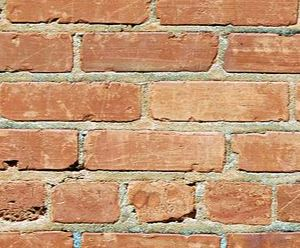brick: (85, 127, 226, 174), (1, 81, 144, 124), (149, 80, 292, 123), (80, 30, 220, 73), (1, 127, 80, 174), (223, 30, 300, 75), (4, 1, 152, 24), (203, 178, 273, 226), (50, 177, 121, 224), (154, 1, 298, 24), (1, 31, 75, 74), (126, 178, 198, 221), (230, 130, 300, 173), (78, 230, 222, 247), (1, 230, 75, 248), (225, 230, 300, 247)
